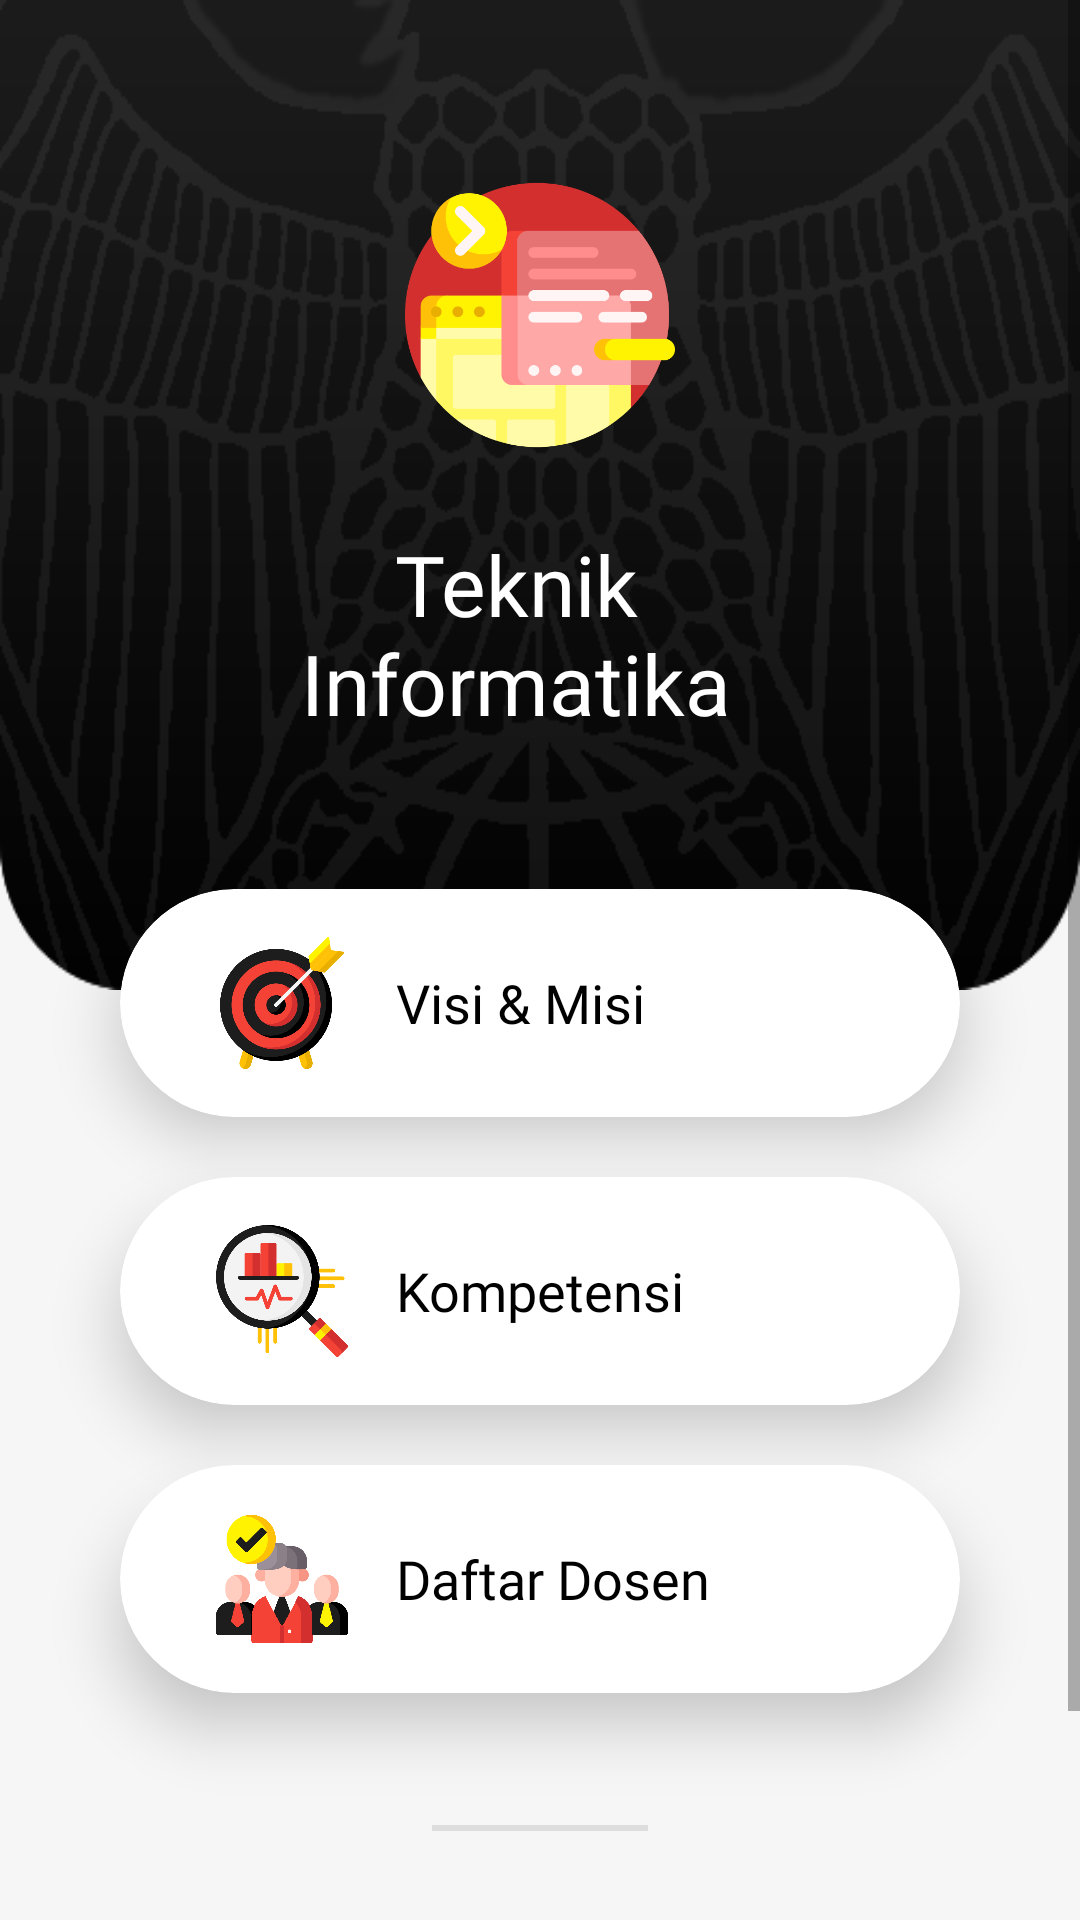

Where to tap for icons on this 1080x1920 app screen, as (x=x, y=y):
leader: (x=282, y=1579)
statistics: (x=282, y=1291)
target: (x=282, y=1003)
webpage: (x=540, y=315)
